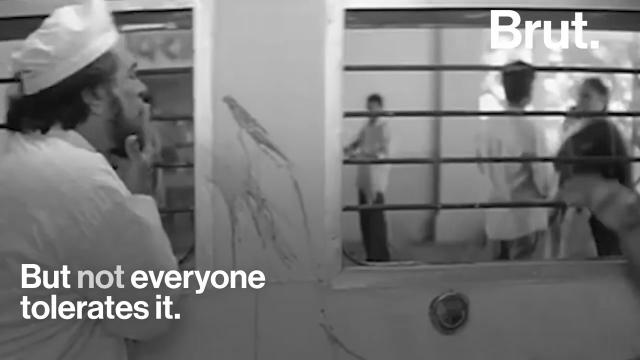spit: (121, 68, 321, 285)
